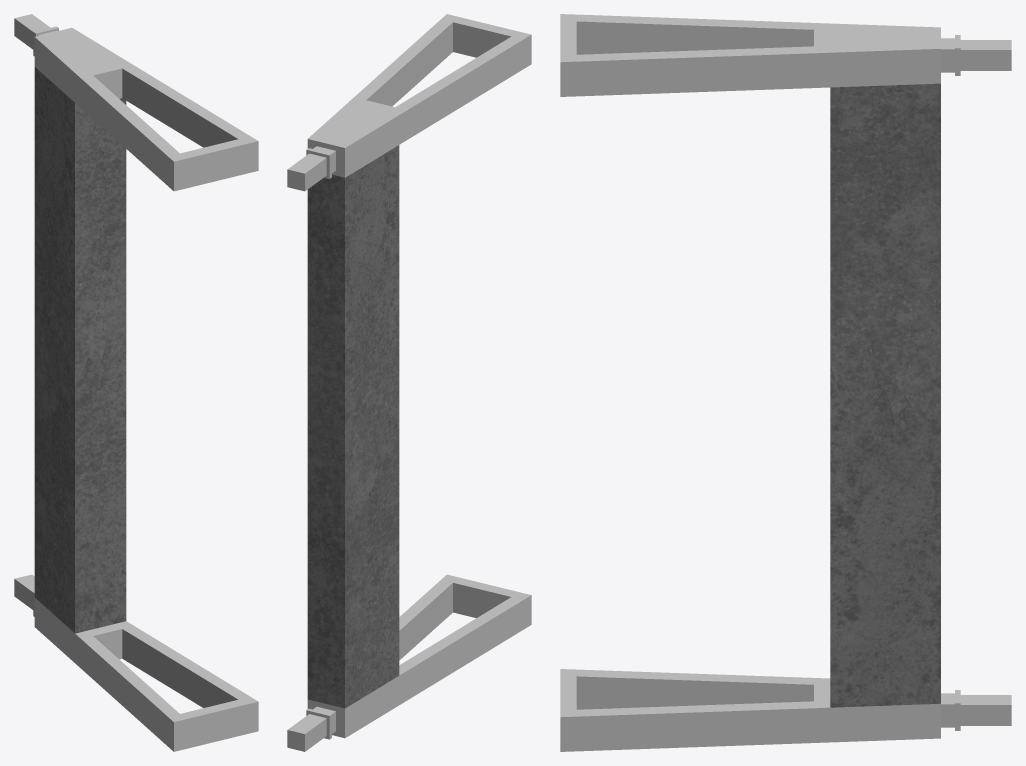
File: caution_sign.fbx
3 views of the same model, side by side, from view 1: azimuth 30°, elevation 25°; view 2: azimuth 150°, elevation 25°; view 3: azimuth 270°, elevation 25° (orthographic). The views are drawn at different scales.
Parts seen in each view (by area): view 1: caution_sign, caution_sign_B; view 2: caution_sign, caution_sign_B; view 3: caution_sign, caution_sign_B.
Part boxes in pixels (left/top/right/bottom): caution_sign: left=14, top=14, right=258, bottom=387; caution_sign_B: left=14, top=319, right=258, bottom=751; caution_sign: left=287, top=14, right=531, bottom=473; caution_sign_B: left=287, top=398, right=531, bottom=751; caution_sign: left=560, top=14, right=1011, bottom=425; caution_sign_B: left=560, top=363, right=1011, bottom=751.
Size of the model in its own units: 0.3 by 2 by 1.19.
